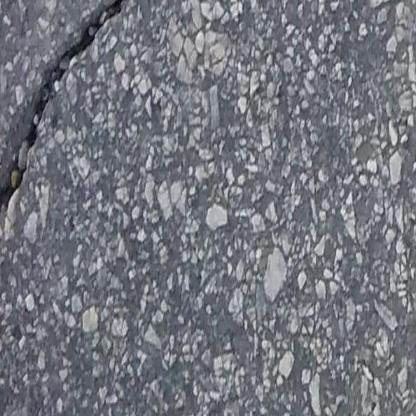Cracks: (0, 0, 180, 246)
